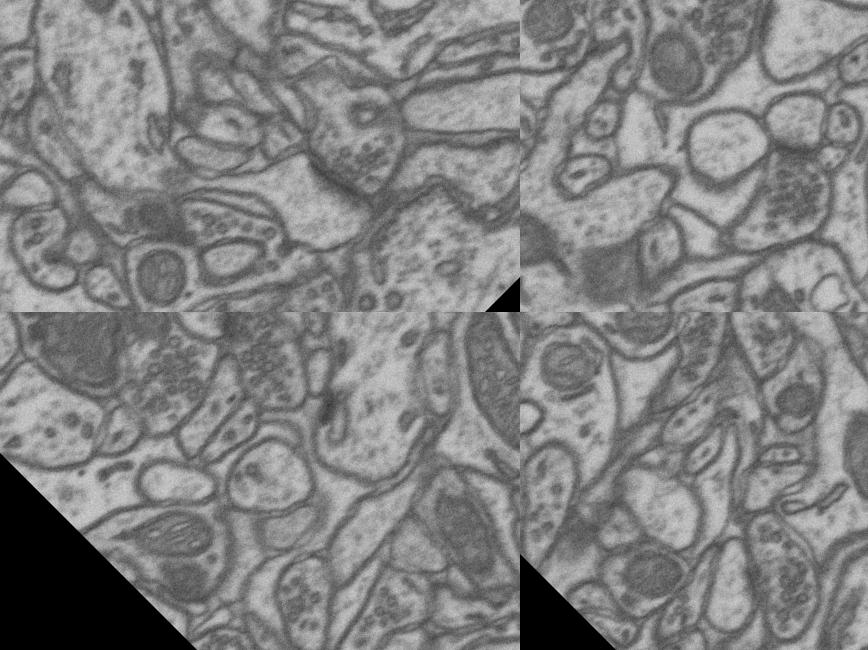mitochondria: (419, 312, 520, 491), (520, 140, 623, 312), (14, 312, 163, 411), (409, 485, 520, 597), (615, 0, 729, 97), (520, 313, 620, 419), (127, 486, 228, 586), (608, 522, 703, 618), (106, 226, 208, 312), (806, 396, 868, 530), (751, 353, 842, 444), (589, 312, 698, 361), (520, 0, 594, 57), (42, 0, 159, 30), (755, 280, 839, 312), (116, 312, 181, 350), (229, 292, 343, 312), (696, 625, 777, 650)
